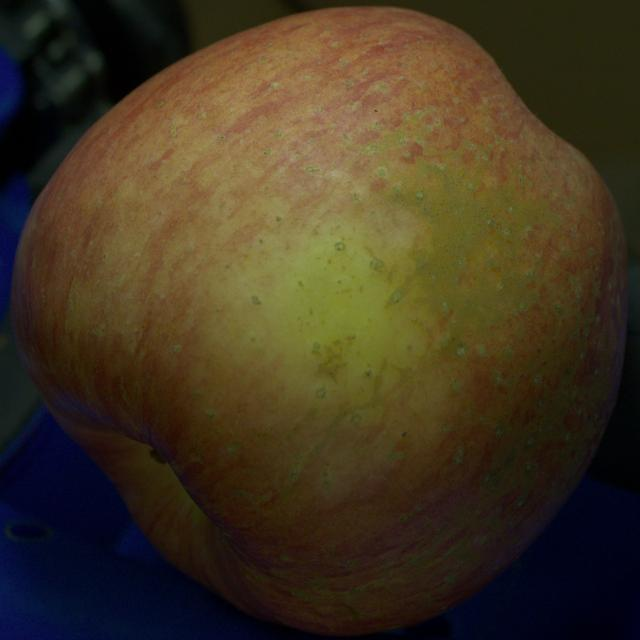apple: (11, 8, 627, 635)
